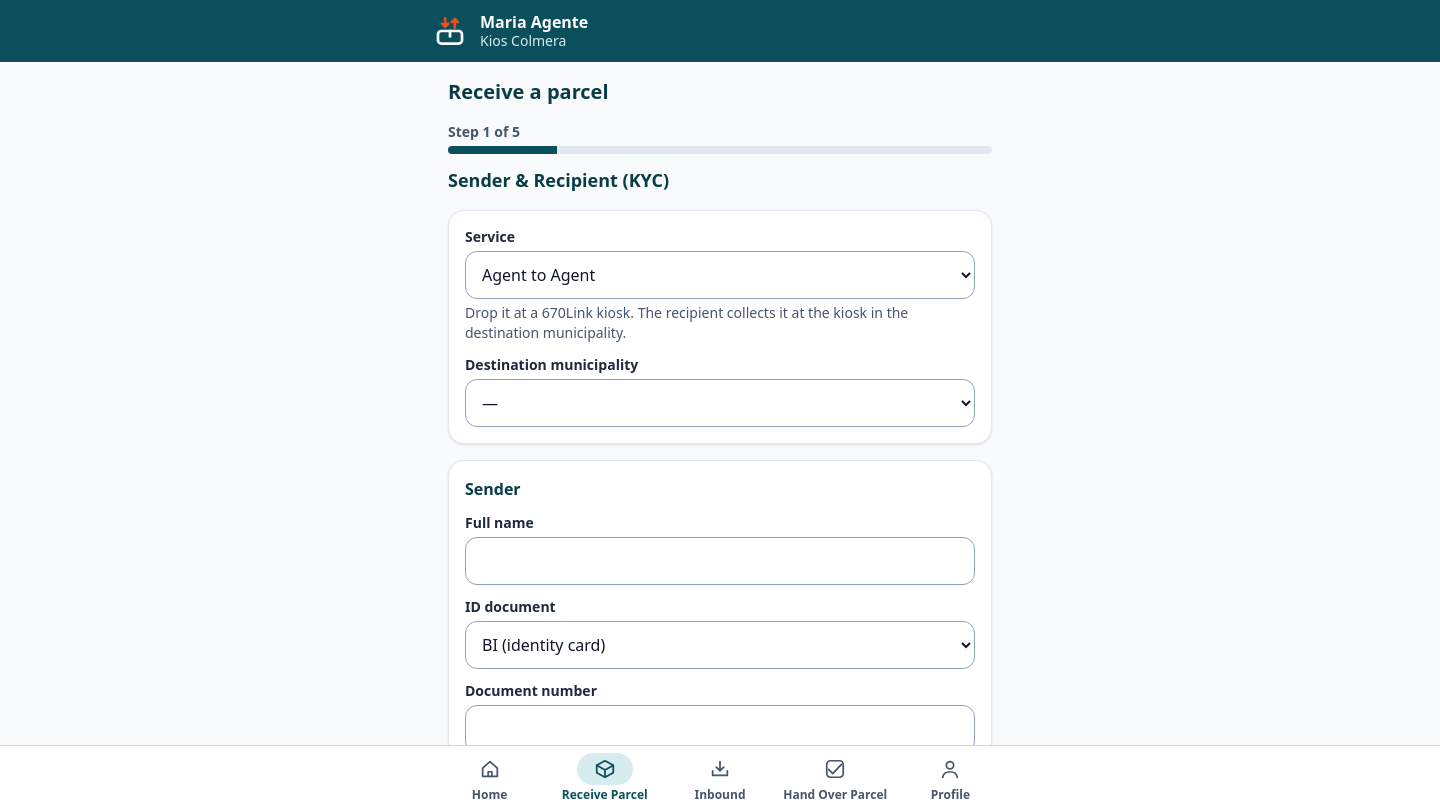
Test: drop-off wizard (kiosk agent) › with several kiosks the agent must choose the destination kiosk
Select "Baucau" in the dropdown labelled "Destination municipality" at x=720, y=402, box [465,378,975,426]
(page scrolled)
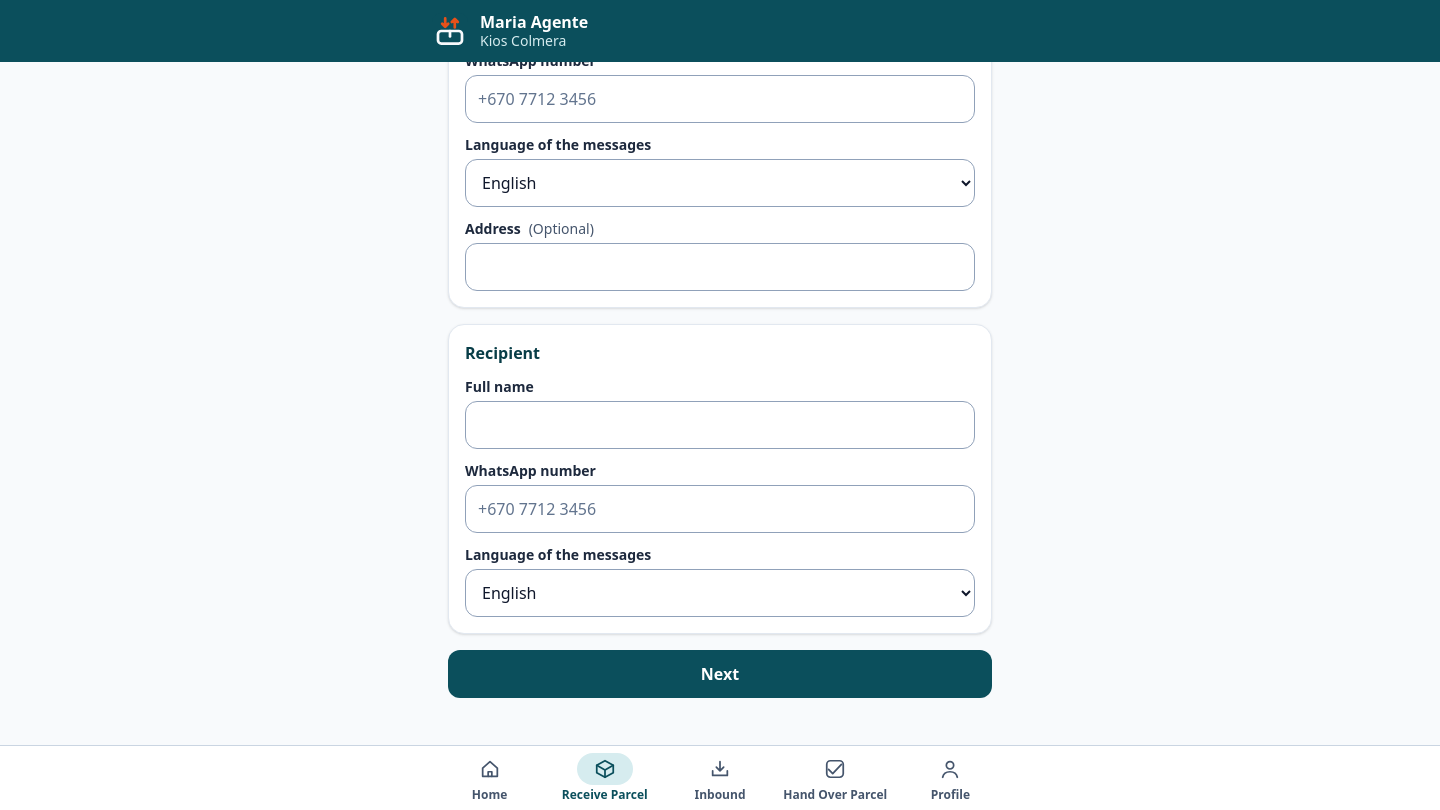
Click the button "Next" at x=720, y=674, box [448,650,992,698]
(page scrolled)
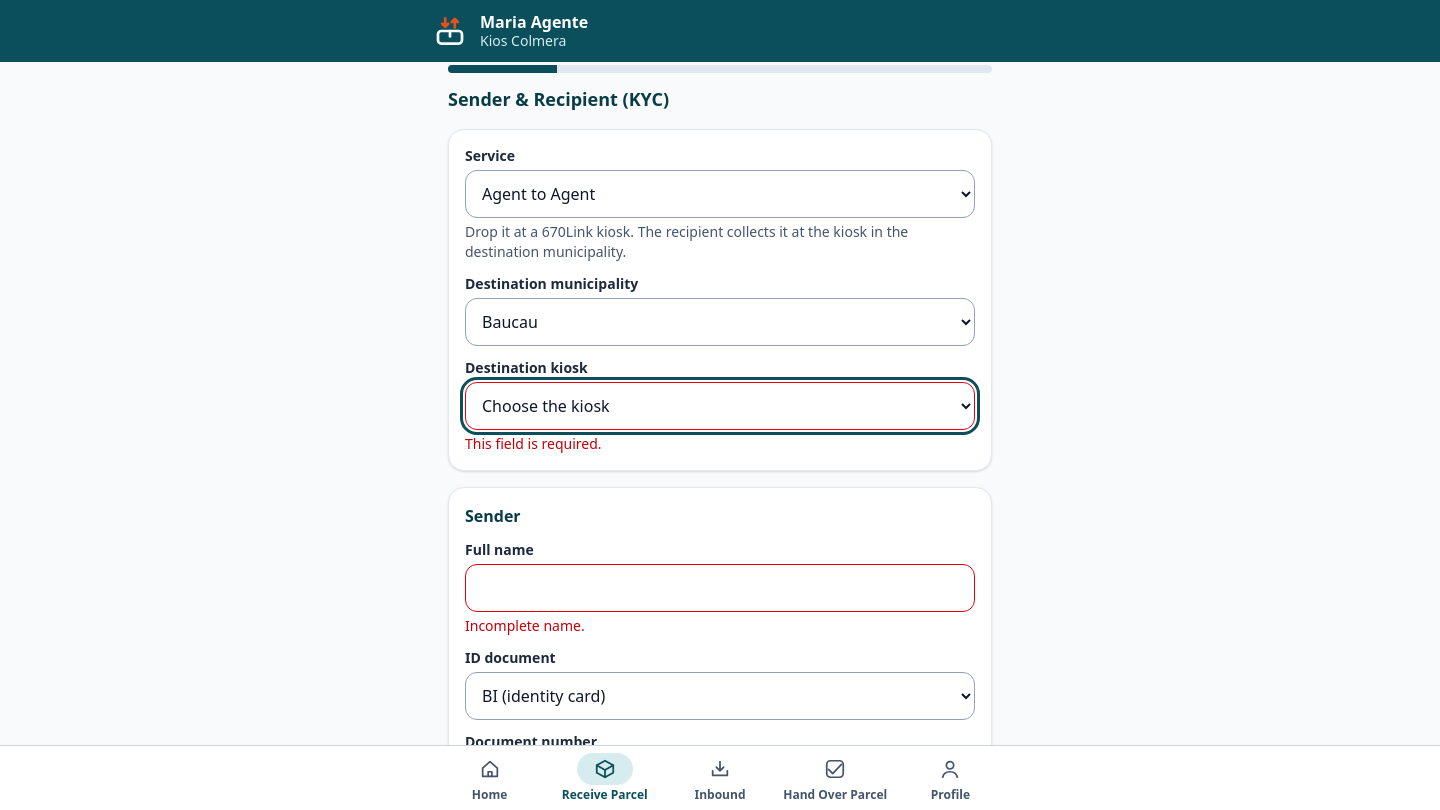
Expected: the message "This field is required." is shown, [465,434,602,452]
